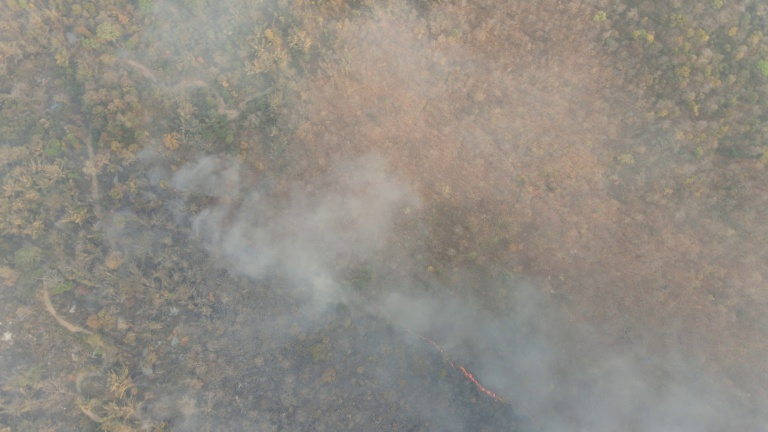fire: (421, 334, 511, 408)
smoke: (204, 159, 422, 326), (426, 297, 694, 420)
